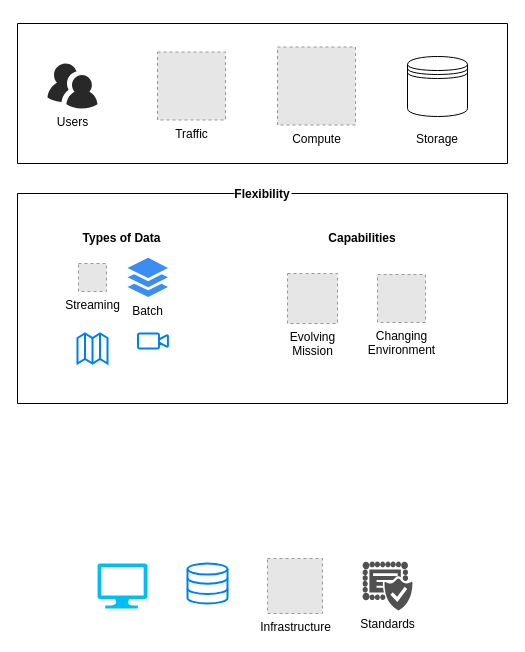
This 525x652 diagram has some shape labels left out. Grey dashed boxes stand in for pictures. The centre of each missing label's shape, as x and y in pixels:
"Data" belongs at (207,583).
"Geo" belongs at (92,348).
"Media" belongs at (152,340).
"Scalability" belongs at (262,93).
"Software" belongs at (122,585).
